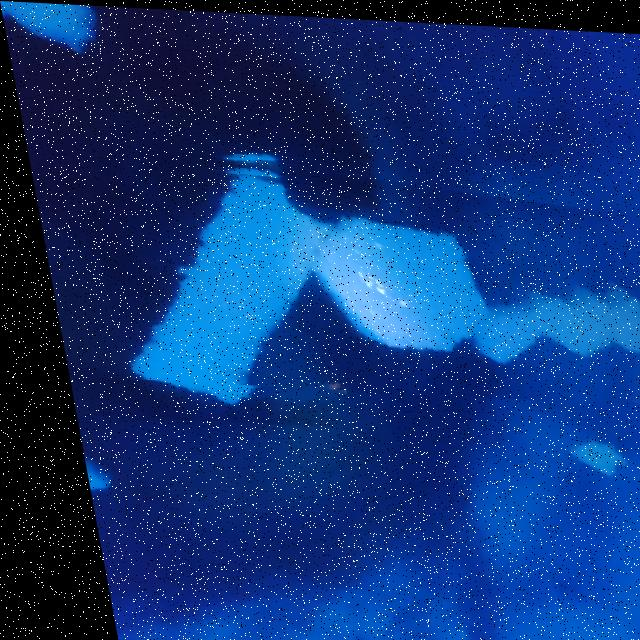thermocoal: (75, 137, 640, 400), (67, 145, 337, 424), (300, 180, 472, 328), (456, 240, 640, 331), (0, 0, 116, 55)
